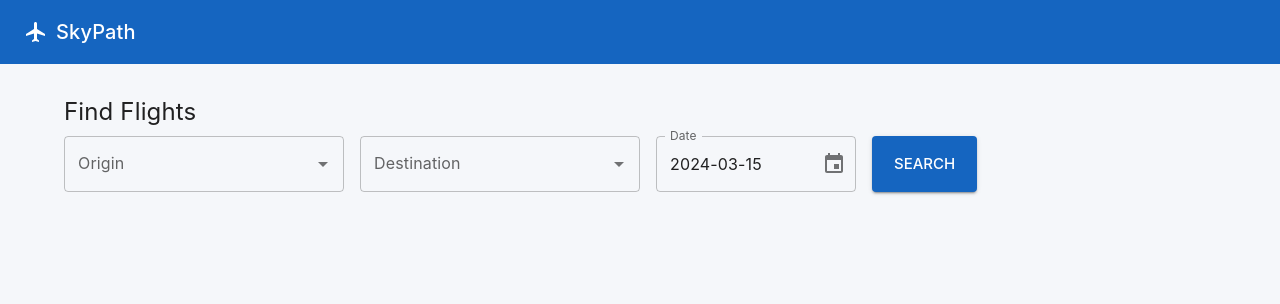
it: App › shows error alert when API returns an error
This screenshot has width=1280, height=304.
Type "JFK" into the dropdown labelled "Origin" at (189, 164), box [73,145,305,183]
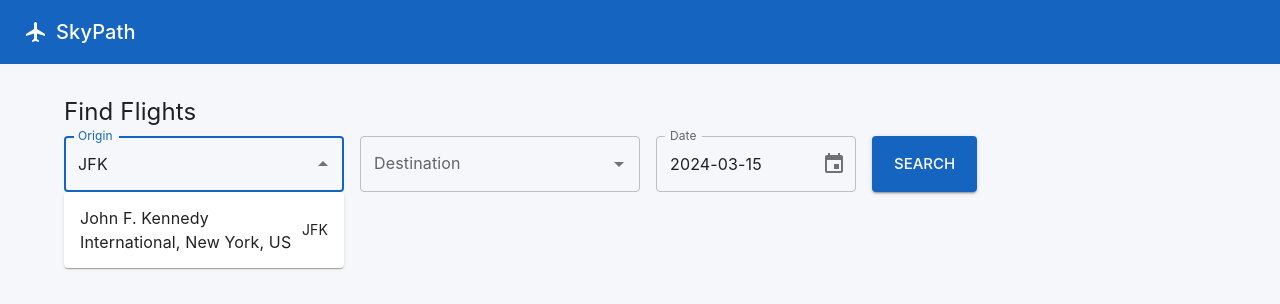
Result: the text "John F. Kennedy International, New York, US" is shown
Click the text "John F. Kennedy International, New York, US" at (187, 230), box [80,206,294,254]
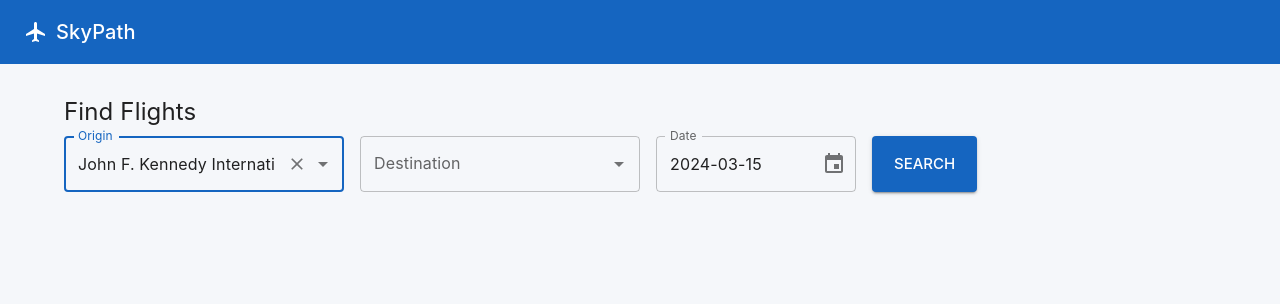
Type "LAX" into the dropdown labelled "Destination" at (485, 164), box [369,145,601,183]
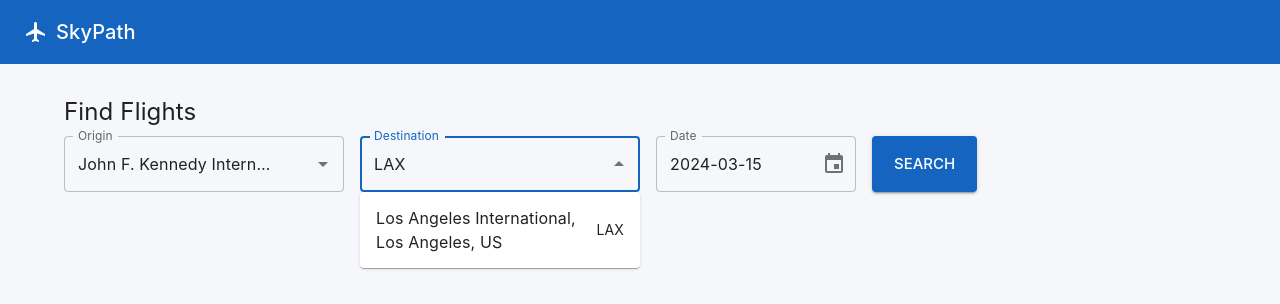
Result: the text "Los Angeles International, Los Angeles, US" is shown
Click the text "Los Angeles International, Los Angeles, US" at (482, 230), box [376,206,588,254]
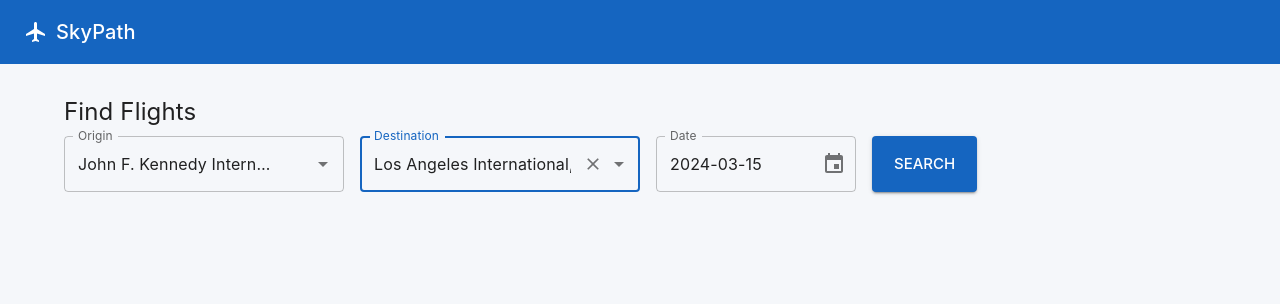
Click the button "Search" at (925, 164), box [872,136,977,192]
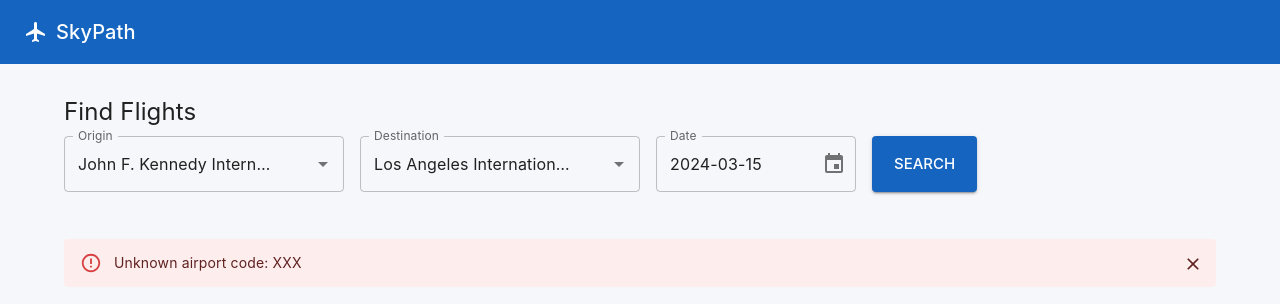
Result: the message "Unknown airport code: XXX" is shown at [64,239,1216,287]
Result: the text "Unknown airport code: XXX" is shown at [114,254,302,271]
